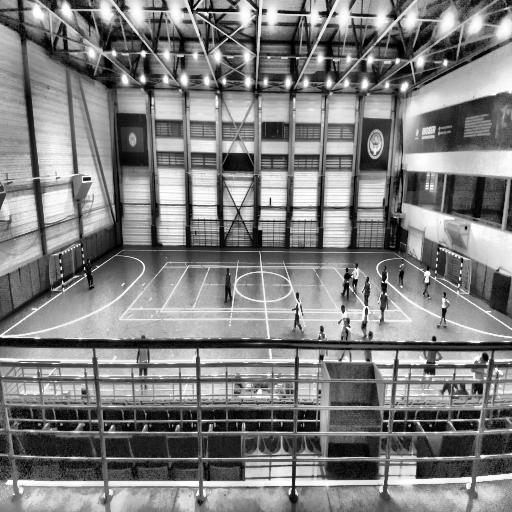ball: (398, 264, 402, 270)
player: (420, 334, 443, 390), (291, 291, 305, 338), (336, 304, 353, 341), (437, 291, 450, 331), (341, 266, 352, 302), (378, 288, 388, 326), (223, 267, 233, 304), (422, 265, 432, 301), (85, 258, 95, 291), (361, 299, 369, 340), (380, 265, 389, 297), (362, 277, 371, 306), (351, 264, 359, 295), (398, 258, 404, 288)
